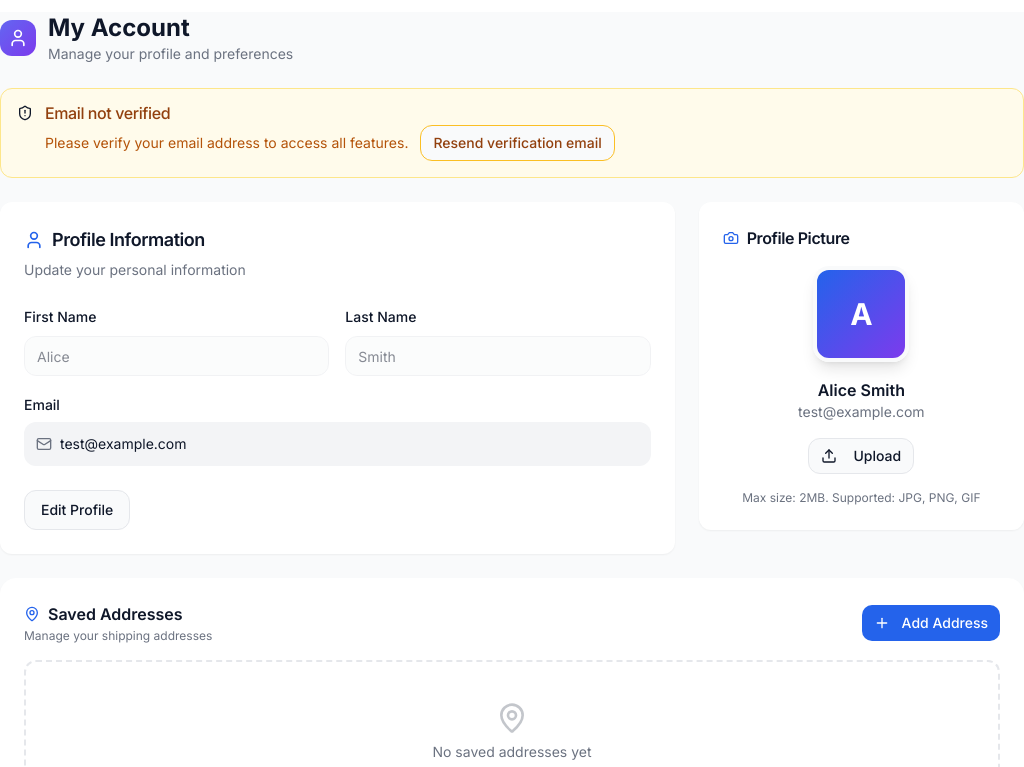
Test case: AccountView — unverified-email banner › Resend button becomes disabled with countdown text after a successful send
Click the button with test id "button-resend-verification" at (518, 143), box [420,125,615,161]
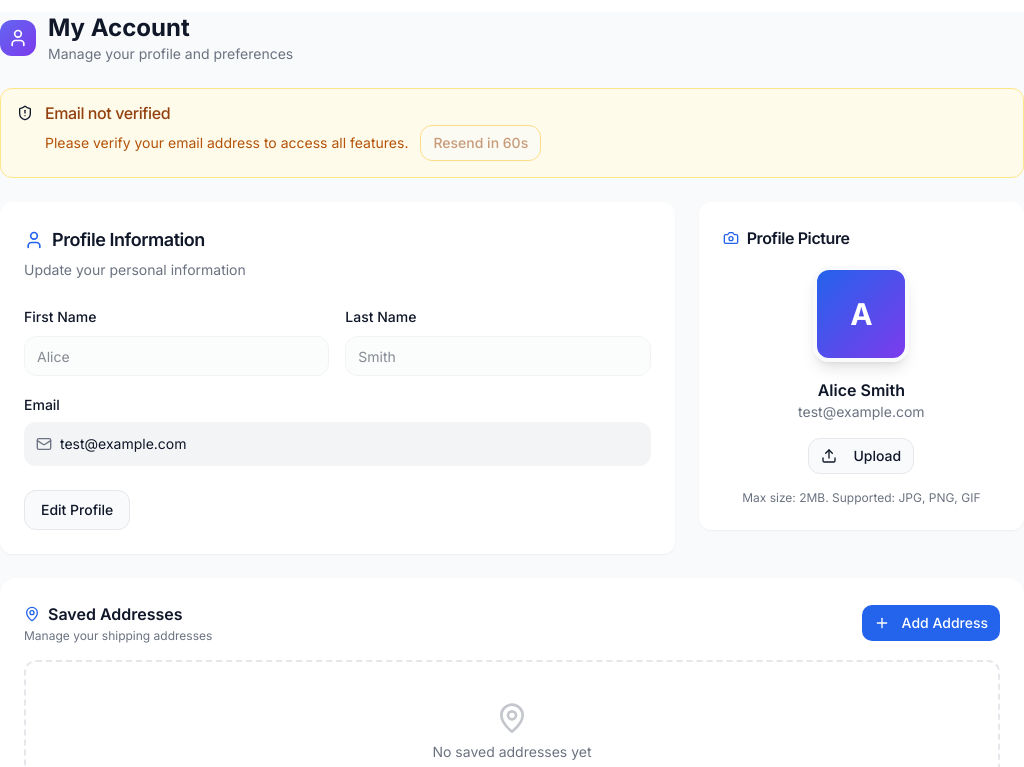
Check: the button with test id "button-resend-verification" is disabled, box [420,125,541,161]
Check: the button with test id "button-resend-verification" reads "Resend in 60s", box [420,125,541,161]
